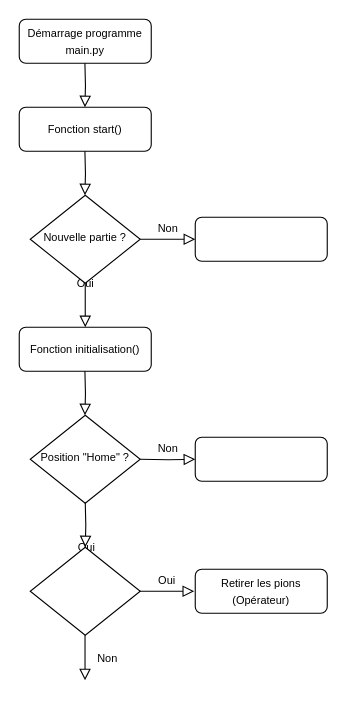
The diagram is 347 pixels wide and 711 high, and some of its shapes have lost their labels. Here are the shapes that lost their labels. From the top down, the box of each, then its label:
(194, 216, 327, 261): Fin programme
(194, 436, 327, 481): Homing
(29, 546, 140, 635): Pions sur damier ?
